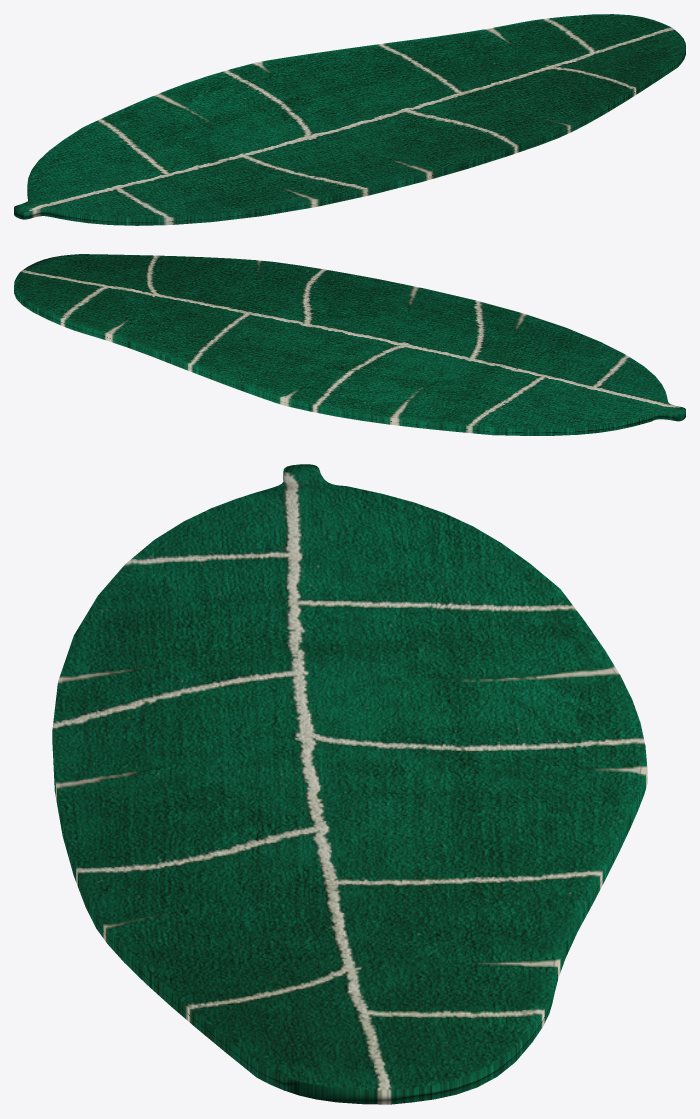
3 views of the same model, one above another, from view 1: azimuth 30°, elevation 25°; view 2: azimuth 150°, elevation 25°; view 3: azimuth 270°, elevation 25° (orthographic). The views are drawn at different scales.
Visible parts, largest first — view 1: mapped; view 2: mapped; view 3: mapped.
Part boxes in pixels (box(x1,y1,x2,y2)): mapped: box(14, 14, 685, 225); mapped: box(14, 254, 685, 435); mapped: box(52, 464, 647, 1104).
Bounding box in the file's own units: 1.98 × 0.02 × 0.7927.
1 material, 1 textured.
